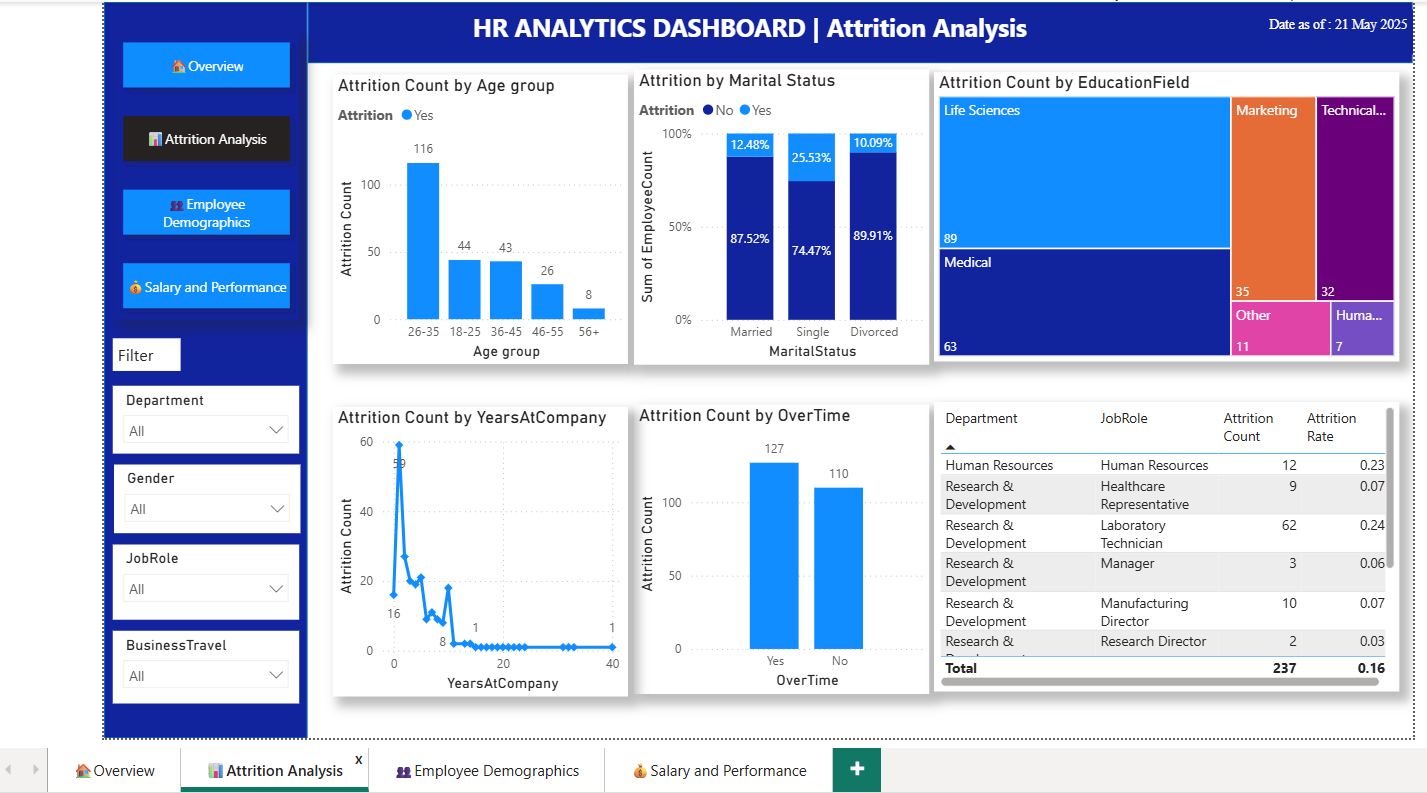

The dashboard page shown, as its layout file describes it:
{"tool":"powerbi","page":{"name":"📊Attrition Analysis","canvas":[1280,720],"ordinal":1},"visuals":[{"type":"shape","box":[0,0,199,720.4],"z":0},{"type":"shape","box":[199,0,1081,59.9],"z":1000},{"type":"textbox","box":[313.2,4.1,637.4,47.9],"z":2000},{"type":"slicer","fields":{"Values":["hr_analytics staging_hr.Department"]},"box":[8.6,375.4,182.2,66],"z":3000},{"type":"slicer","fields":{"Values":["hr_analytics staging_hr.Gender"]},"box":[9.8,452.4,182.2,67.3],"z":4000},{"type":"slicer","fields":{"Values":["hr_analytics staging_hr.JobRole"]},"box":[8.6,530.7,182.2,73.4],"z":5000},{"type":"slicer","fields":{"Values":["hr_analytics staging_hr.BusinessTravel"]},"box":[8.6,615.1,182.2,70.9],"z":6000},{"type":"textbox","box":[1128.4,7.3,151.6,44],"z":7000},{"type":"textbox","box":[8.6,328.9,66,31.8],"z":8000},{"type":"clusteredColumnChart","title":"Attrition Count by Age group","fields":{"Category":["hr_analytics staging_hr.Age group"],"Y":["hr_analytics staging_hr.Attrition Count"],"Series":["hr_analytics staging_hr.Attrition"]},"box":[224.3,71.1,288.6,283.1],"z":9000},{"type":"hundredPercentStackedColumnChart","title":"Attrition by Marital Status","fields":{"Category":["hr_analytics staging_hr.MaritalStatus"],"Series":["hr_analytics staging_hr.Attrition"],"Y":["Sum(hr_analytics staging_hr.EmployeeCount)"]},"box":[518.4,65.7,288.6,288.6],"z":10000},{"type":"clusteredColumnChart","fields":{"Category":["hr_analytics staging_hr.OverTime"],"Y":["hr_analytics staging_hr.Attrition Count"]},"box":[518.4,393.9,288.6,283.1],"z":11000},{"type":"lineChart","fields":{"Y":["hr_analytics staging_hr.Attrition Count"],"Category":["hr_analytics staging_hr.YearsAtCompany"]},"box":[224.3,396.7,288.6,283.1],"z":12000},{"type":"treemap","fields":{"Values":["hr_analytics staging_hr.Attrition Count"],"Group":["hr_analytics staging_hr.EducationField"]},"box":[812.5,68.3,455.5,283.1],"z":13000},{"type":"tableEx","fields":{"Values":["hr_analytics staging_hr.Department","hr_analytics staging_hr.JobRole","hr_analytics staging_hr.Attrition Count","hr_analytics staging_hr.Attrition Rate"]},"box":[812.5,391.2,455.5,283],"z":14000},{"type":"pageNavigator","box":[9.6,30.2,181.1,279.9],"z":15000}]}

Visuals, with their boxes on the page's 1280x720 design canvas (x1, y1, x2, y2). These are canvas units, not pixel positions in the 1427x793 screenshot, which may show the page scaled, cropped or inside an application window:
shape: [0, 0, 199, 720]
shape: [199, 0, 1280, 60]
textbox: [313, 4, 951, 52]
slicer - hr_analytics staging_hr.Department: [9, 375, 191, 441]
slicer - hr_analytics staging_hr.Gender: [10, 452, 192, 520]
slicer - hr_analytics staging_hr.JobRole: [9, 531, 191, 604]
slicer - hr_analytics staging_hr.BusinessTravel: [9, 615, 191, 686]
textbox: [1128, 7, 1280, 51]
textbox: [9, 329, 75, 361]
"Attrition Count by Age group" clusteredColumnChart: [224, 71, 513, 354]
"Attrition by Marital Status" hundredPercentStackedColumnChart: [518, 66, 807, 354]
clusteredColumnChart - hr_analytics staging_hr.OverTime x hr_analytics staging_hr.Attrition Count: [518, 394, 807, 677]
lineChart - hr_analytics staging_hr.Attrition Count x hr_analytics staging_hr.YearsAtCompany: [224, 397, 513, 680]
treemap - hr_analytics staging_hr.Attrition Count x hr_analytics staging_hr.EducationField: [812, 68, 1268, 351]
tableEx - hr_analytics staging_hr.Department x hr_analytics staging_hr.JobRole: [812, 391, 1268, 674]
pageNavigator: [10, 30, 191, 310]
